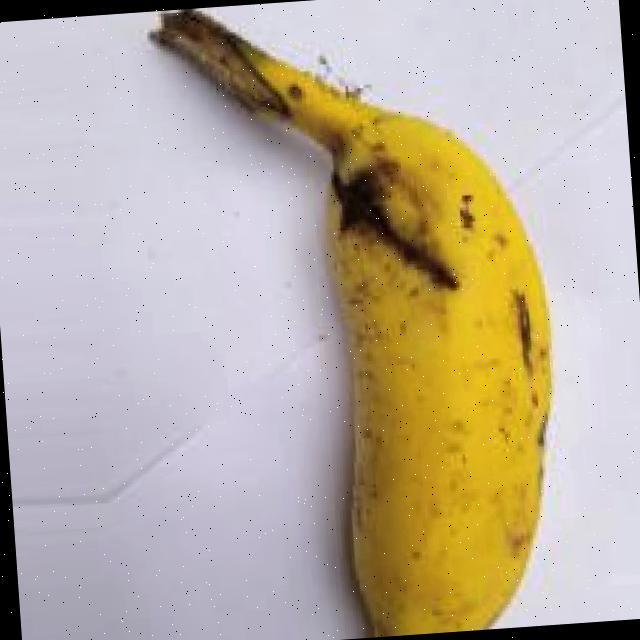banana: (130, 0, 597, 640)
